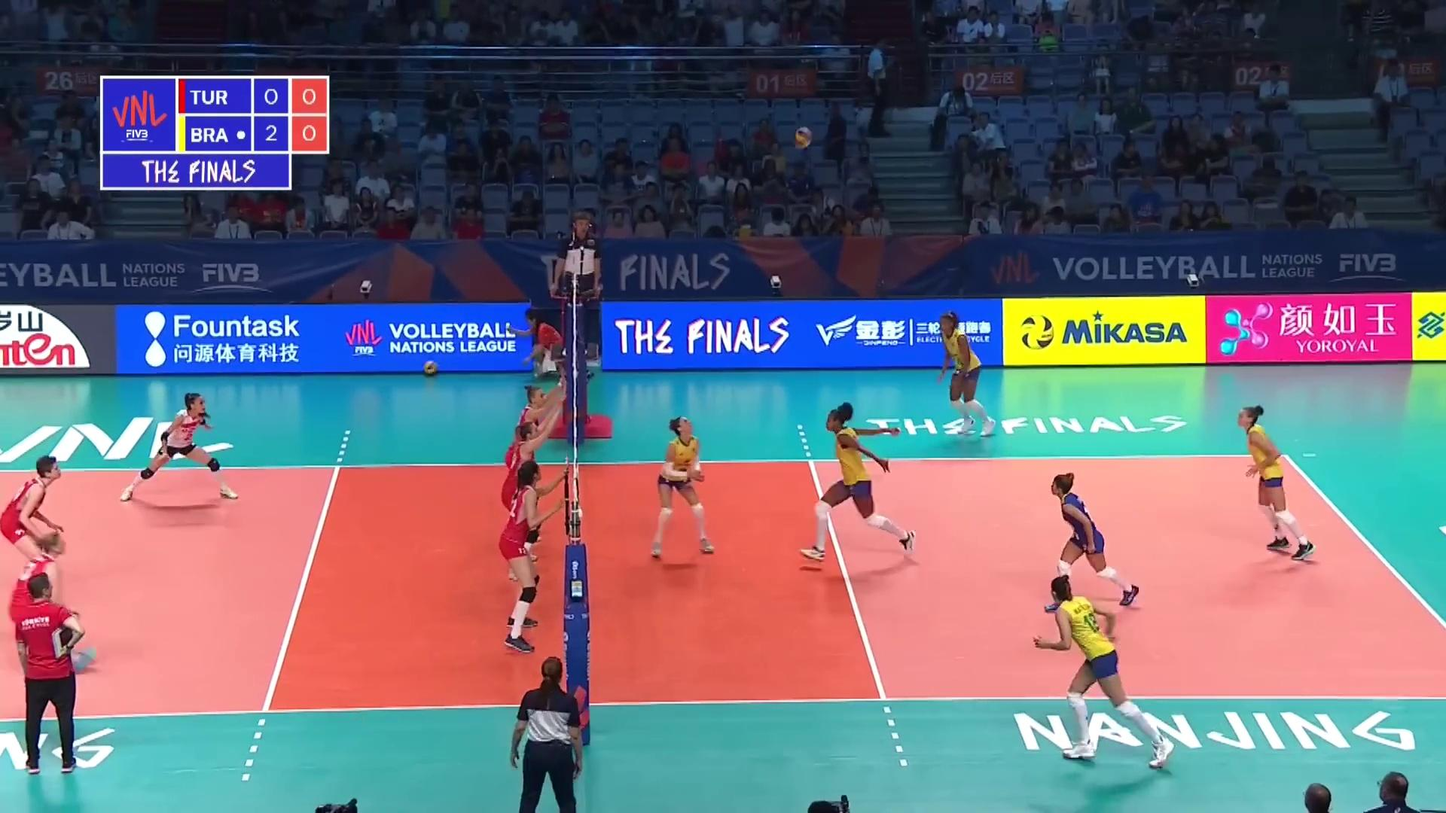player: (1041, 587, 1170, 765), (807, 405, 915, 567), (502, 454, 572, 652), (0, 528, 92, 673), (121, 393, 240, 505), (1043, 480, 1137, 617), (1238, 409, 1310, 564), (504, 402, 561, 582), (517, 366, 566, 567), (651, 419, 716, 560), (0, 459, 65, 593), (937, 314, 995, 436)
refree: (513, 657, 578, 810), (558, 211, 601, 357)
